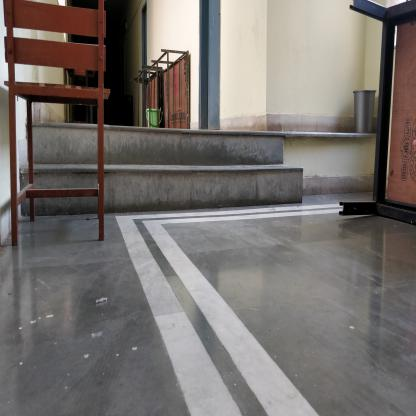stairs: (108, 123, 283, 220)
